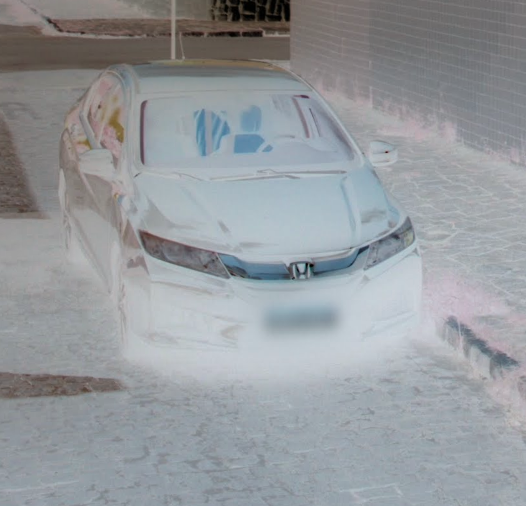car: (56, 33, 431, 366)
